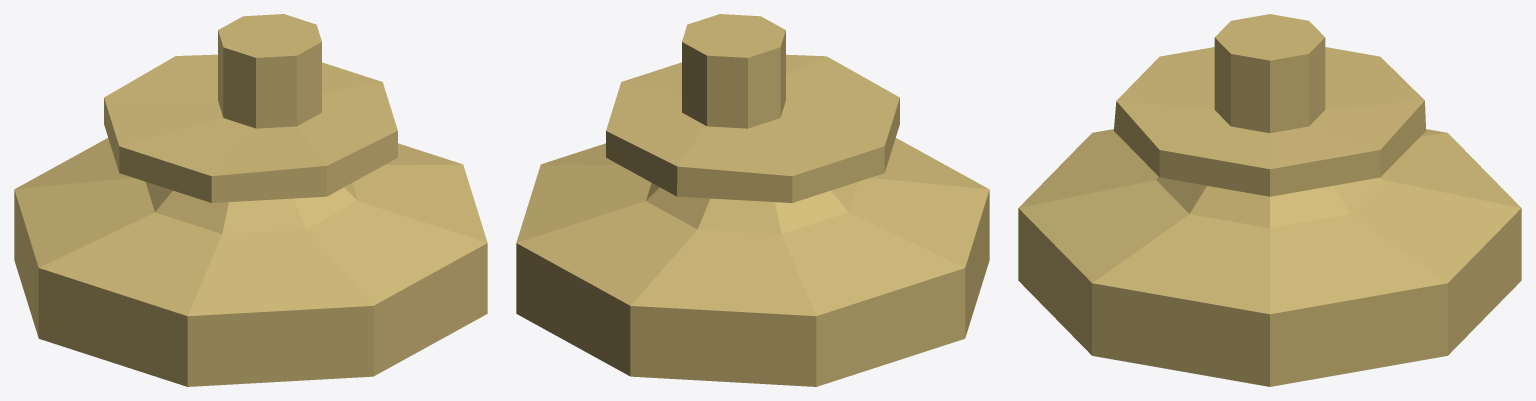
The model's file is TOP2.fbx.
3 renders of one model, left to right at view 1: azimuth 30°, elevation 25°; view 2: azimuth 150°, elevation 25°; view 3: azimuth 270°, elevation 25°, orthographic. The views are drawn at different scales.
Parts seen in each view (by area): view 1: Cylinder; view 2: Cylinder; view 3: Cylinder.
Boxes of the visible parts, x1,y1,x2,y2 form: Cylinder: (14, 14, 487, 386); Cylinder: (516, 14, 989, 386); Cylinder: (1018, 14, 1521, 386).
Bounding box in the file's own units: 592 × 328 × 592.
